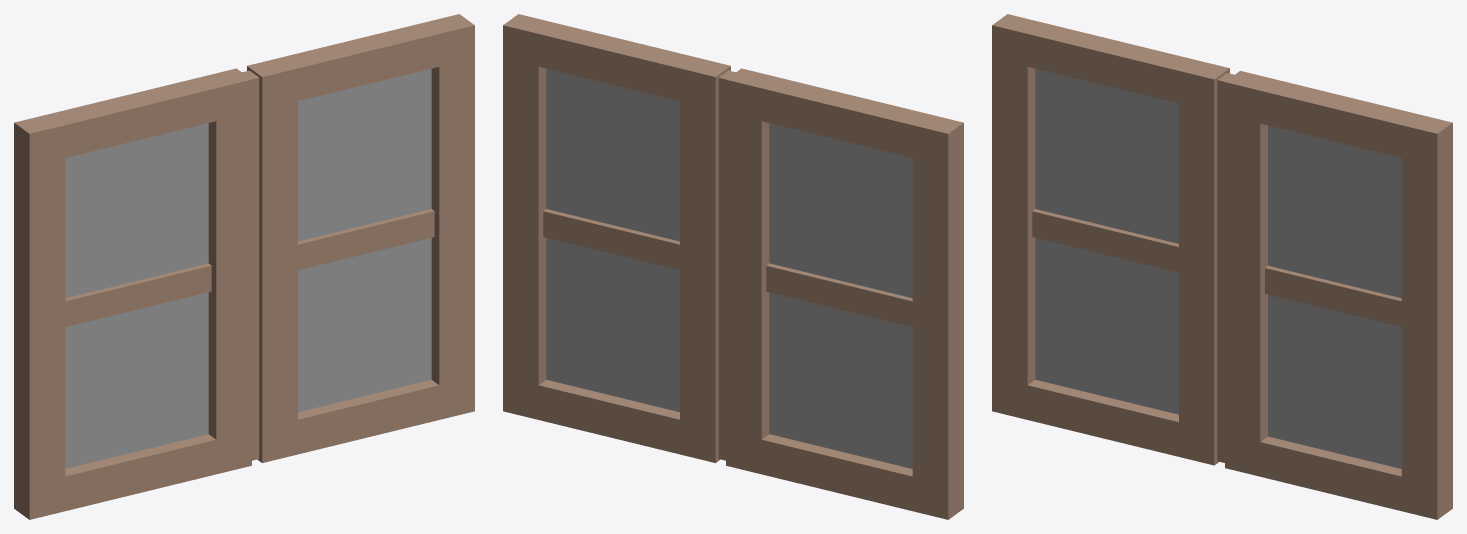
File: Window_4B.fbx
3 renders of one model, left to right at view 1: azimuth 30°, elevation 25°; view 2: azimuth 150°, elevation 25°; view 3: azimuth 330°, elevation 25°, orthographic.
Parts seen in each view (by area): view 1: polySurface2315, Window_Glass10; view 2: polySurface2315, Window_Glass10; view 3: polySurface2315, Window_Glass10.
Part boxes in pixels (x1,y1,x2,y2): polySurface2315: (14, 14, 474, 519); Window_Glass10: (65, 68, 431, 468); polySurface2315: (503, 14, 963, 519); Window_Glass10: (546, 68, 912, 468); polySurface2315: (992, 14, 1452, 519); Window_Glass10: (1035, 68, 1401, 468).
Size of the model in its own units: 2.5 by 2.07 by 0.15.
2 materials, 1 textured.
